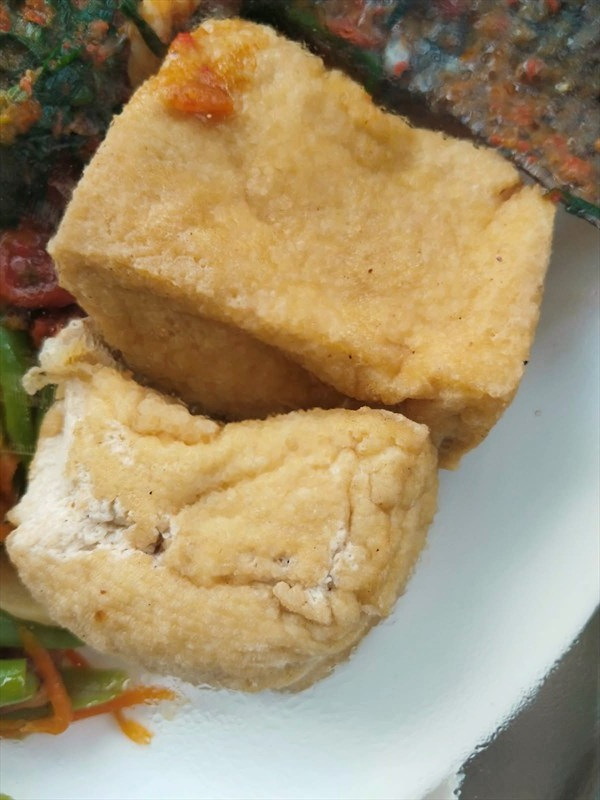Tahu Goreng: (31, 32, 520, 741)
